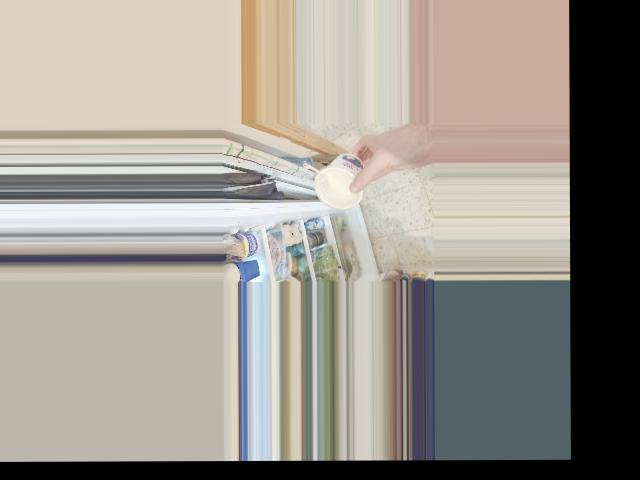cotage: (315, 150, 368, 203)
